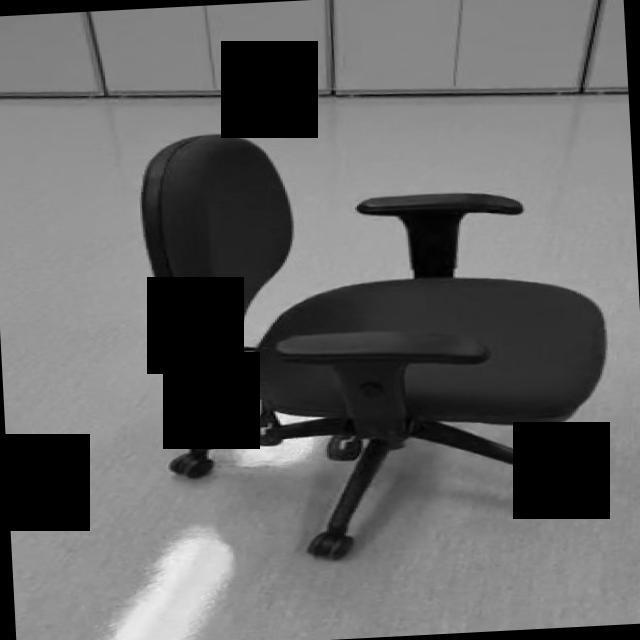chair: (136, 112, 616, 568)
